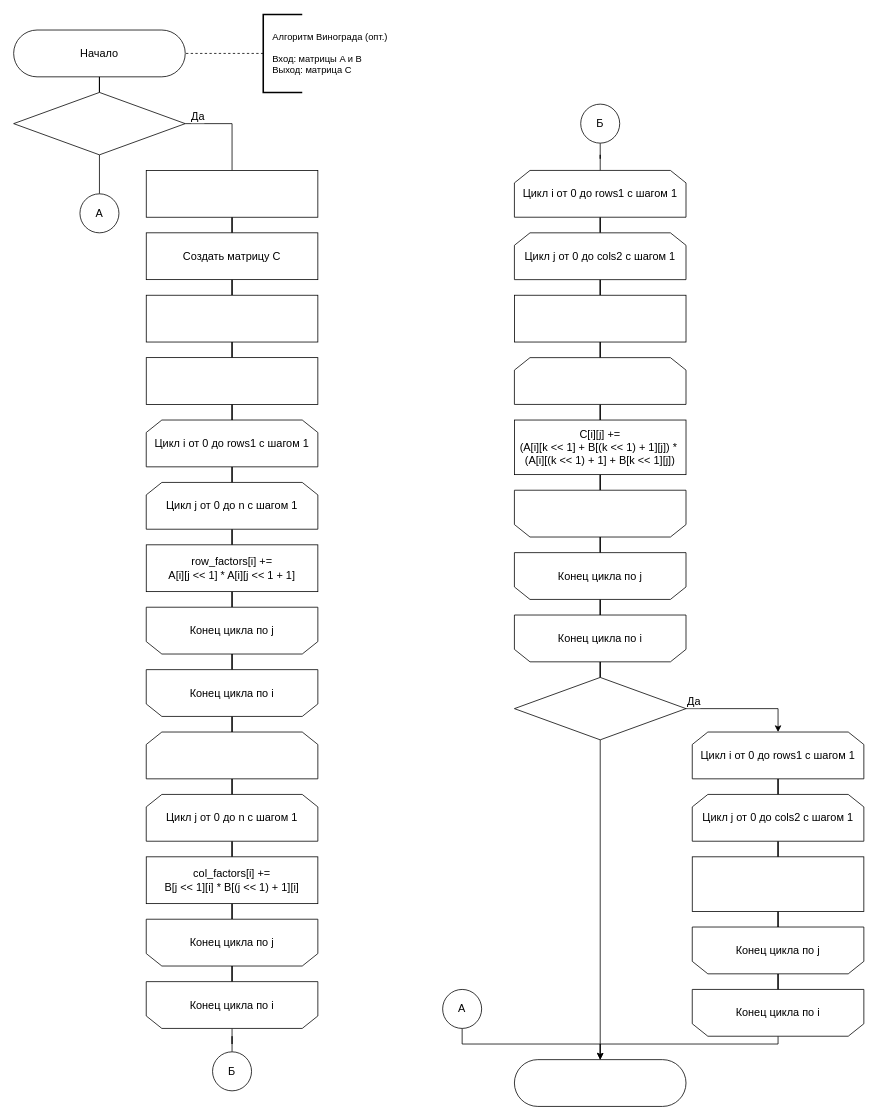
The diagram is 877 pixels wide and 1120 high, and some of its shapes have lost their labels. Here are the shapes that lost their labels. From the top down, the box of each, then its label:
(13, 92, 185, 155): кол-во стобцов A == кол-во строк B
(145, 170, 318, 217): rows1 = кол-во строк A cols1 = кол-во столбцов A cols2 = кол-во столбцов B
(145, 294, 318, 342): Создать массивы row_factors размером rows1 col_factors размером cols1
(514, 294, 686, 342): С[i][j] = -row_factors[i] - col_factors[j]
(145, 357, 318, 404): n = cols1 / 2
(514, 357, 686, 404): Цикл k от 0 до n с шагом 1
(514, 489, 686, 537): Конец цикла по k
(514, 677, 686, 740): cols1 четное?
(145, 731, 318, 779): Цикл i от 0 до cols2 с шагом 1
(691, 856, 864, 911): С[i][j] += A[i][cols1 - 1] * B[cols1 - 1][j]
(514, 1059, 686, 1106): Конец
